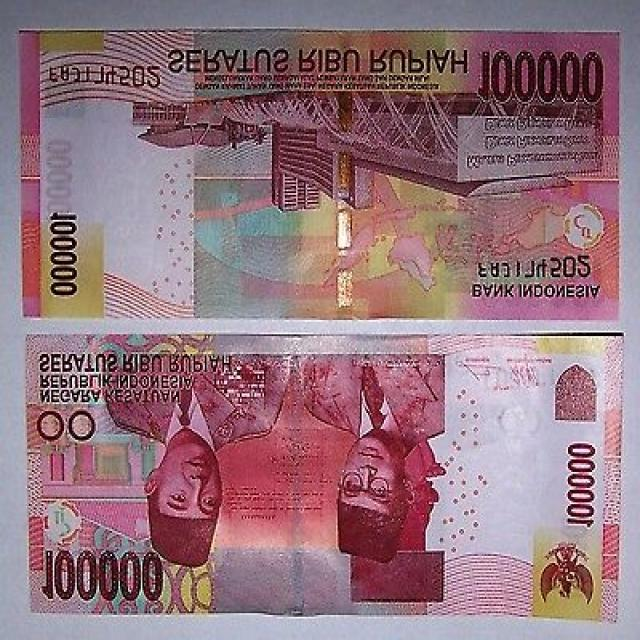seratus ribu rupiah: (22, 30, 620, 318), (27, 335, 622, 616)
